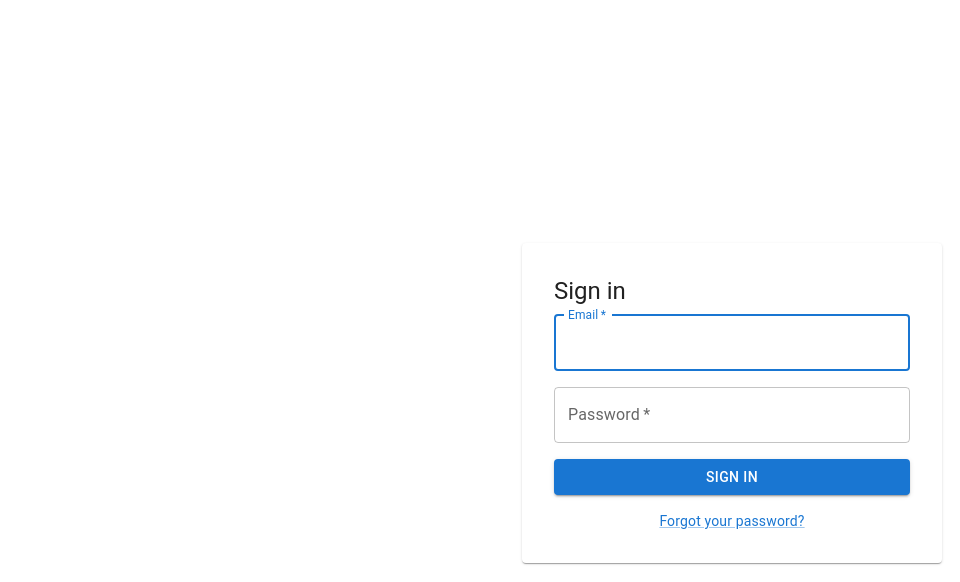
Test: LoginPage › signs in and goes to the home page
The image size is (960, 582).
Type "jane@example.com" into the field labelled "Email *".
click(732, 343); type("jane@example.com")  # box [554,315,910,371]
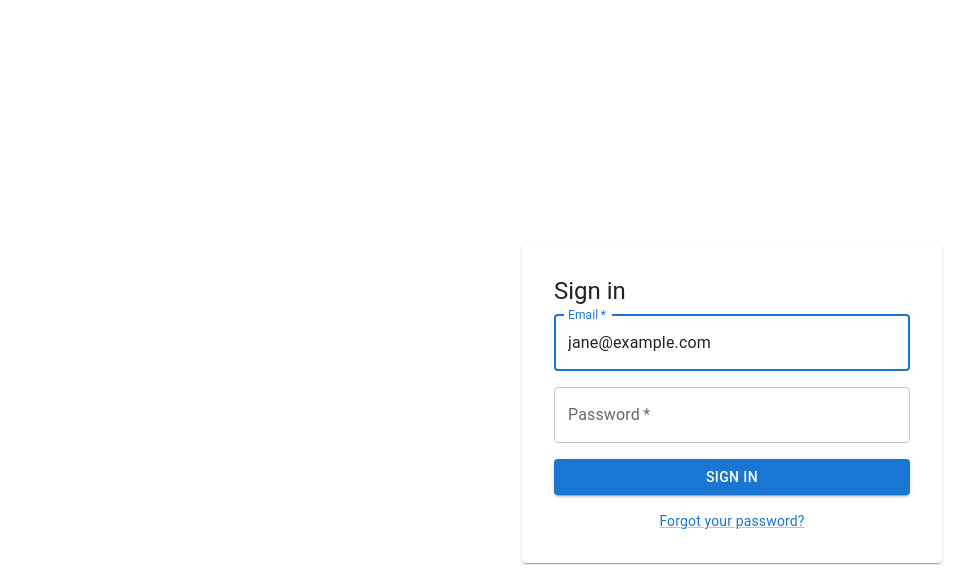
Type "password" into the password field labelled "Password *".
click(732, 415); type("password")  # box [554,387,910,443]
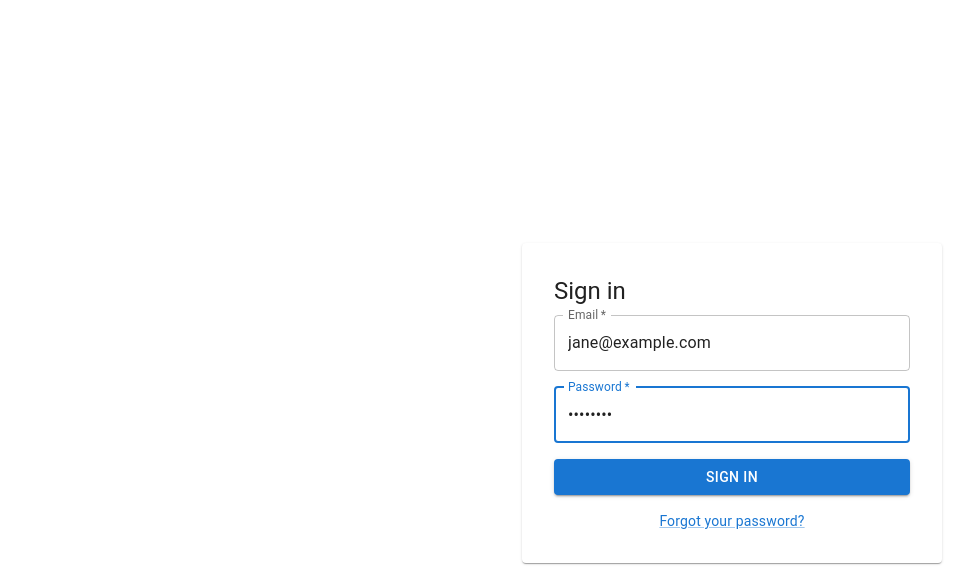
Click the button "Sign in".
click(732, 477)  # box [554,459,910,495]
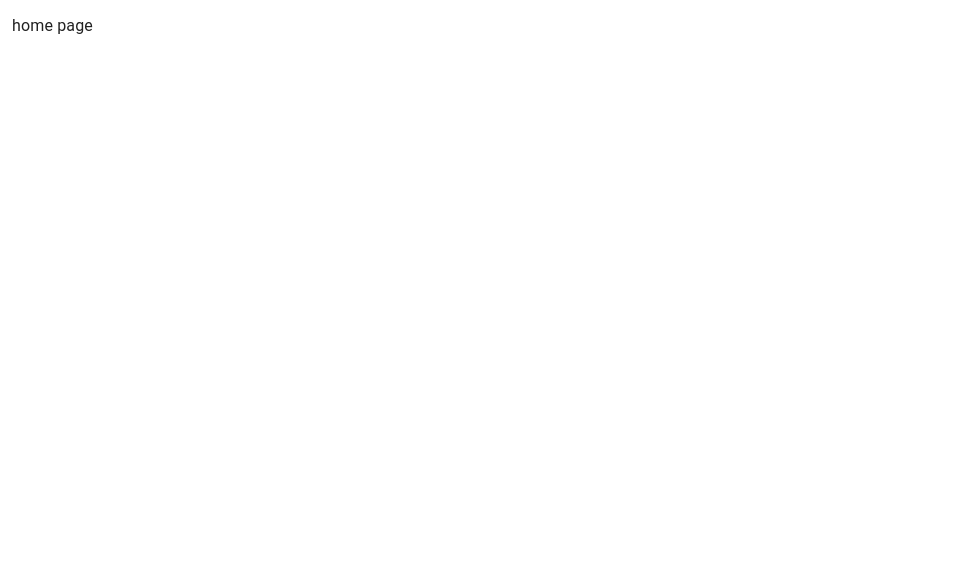
Expected: the text "home page" is shown, [12,16,93,35]
